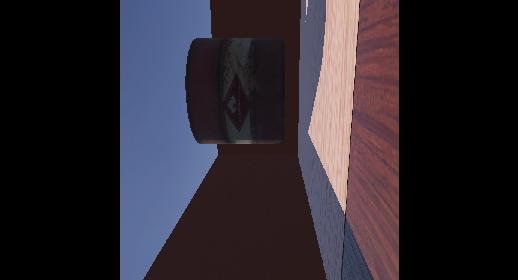OilBarrel: (176, 20, 316, 154)
